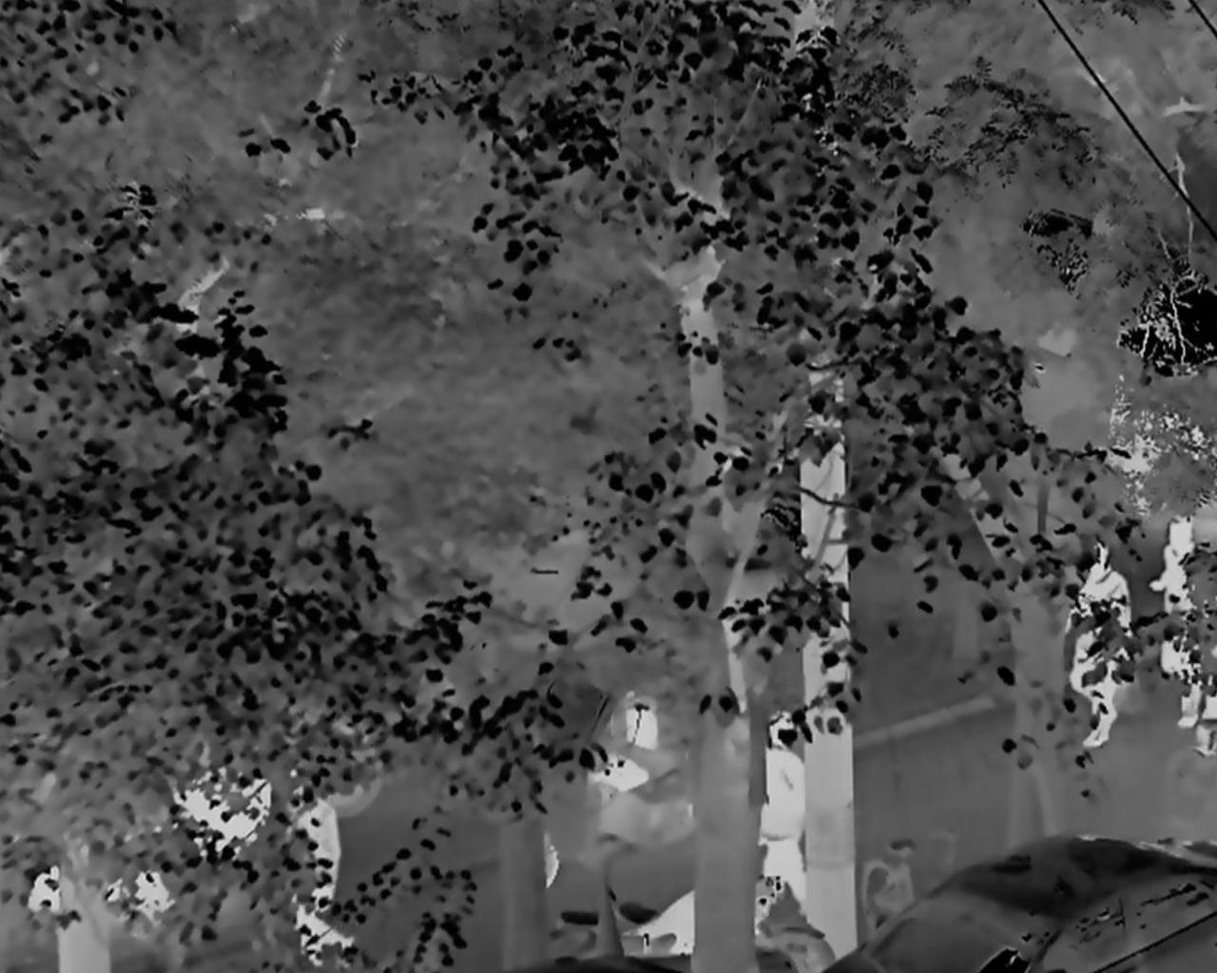person: (1066, 540, 1129, 748), (1149, 514, 1202, 729), (288, 769, 341, 961), (758, 706, 805, 921)
